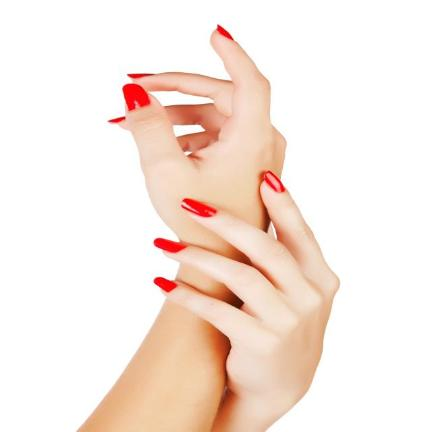Nail: (122, 83, 151, 111), (181, 198, 217, 218), (263, 169, 286, 194), (153, 237, 188, 253), (153, 277, 177, 292), (217, 24, 234, 41), (126, 73, 159, 78), (107, 116, 126, 124)
